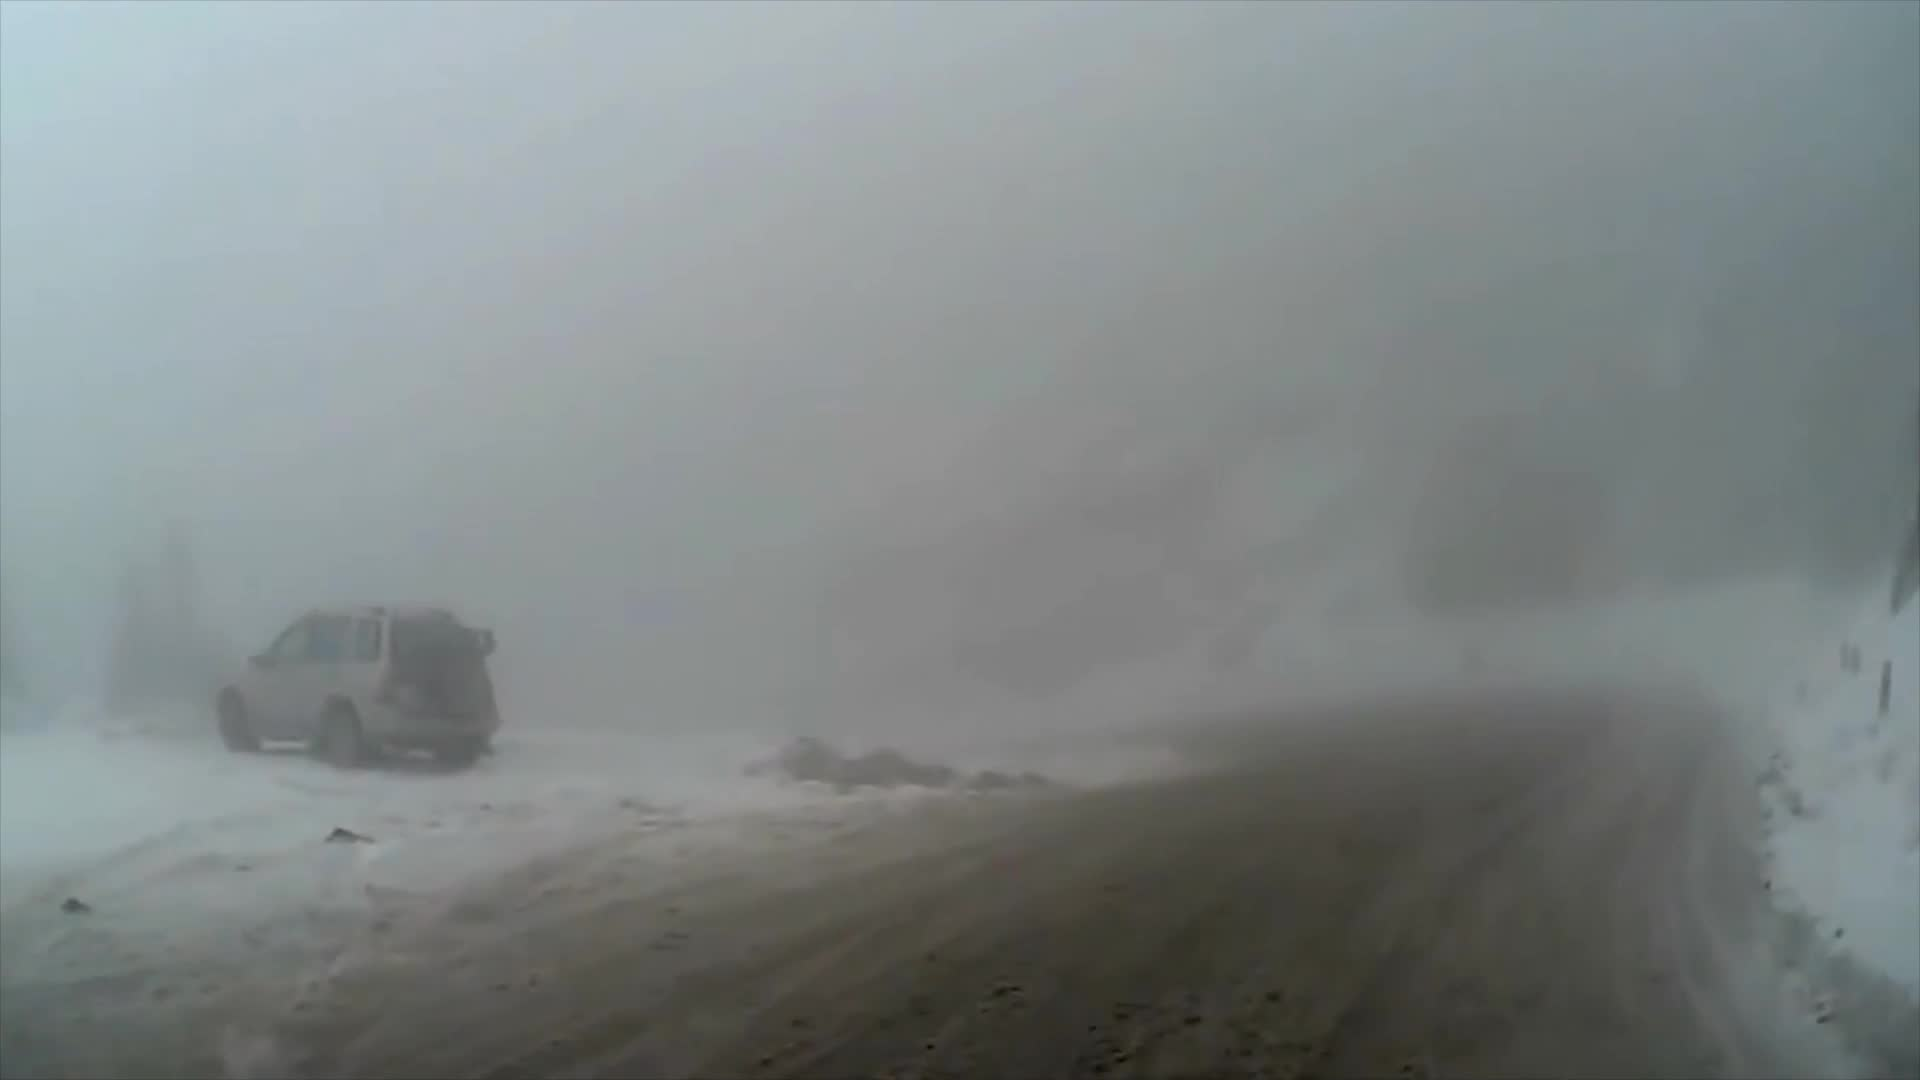vehicle: (214, 599, 493, 767)
